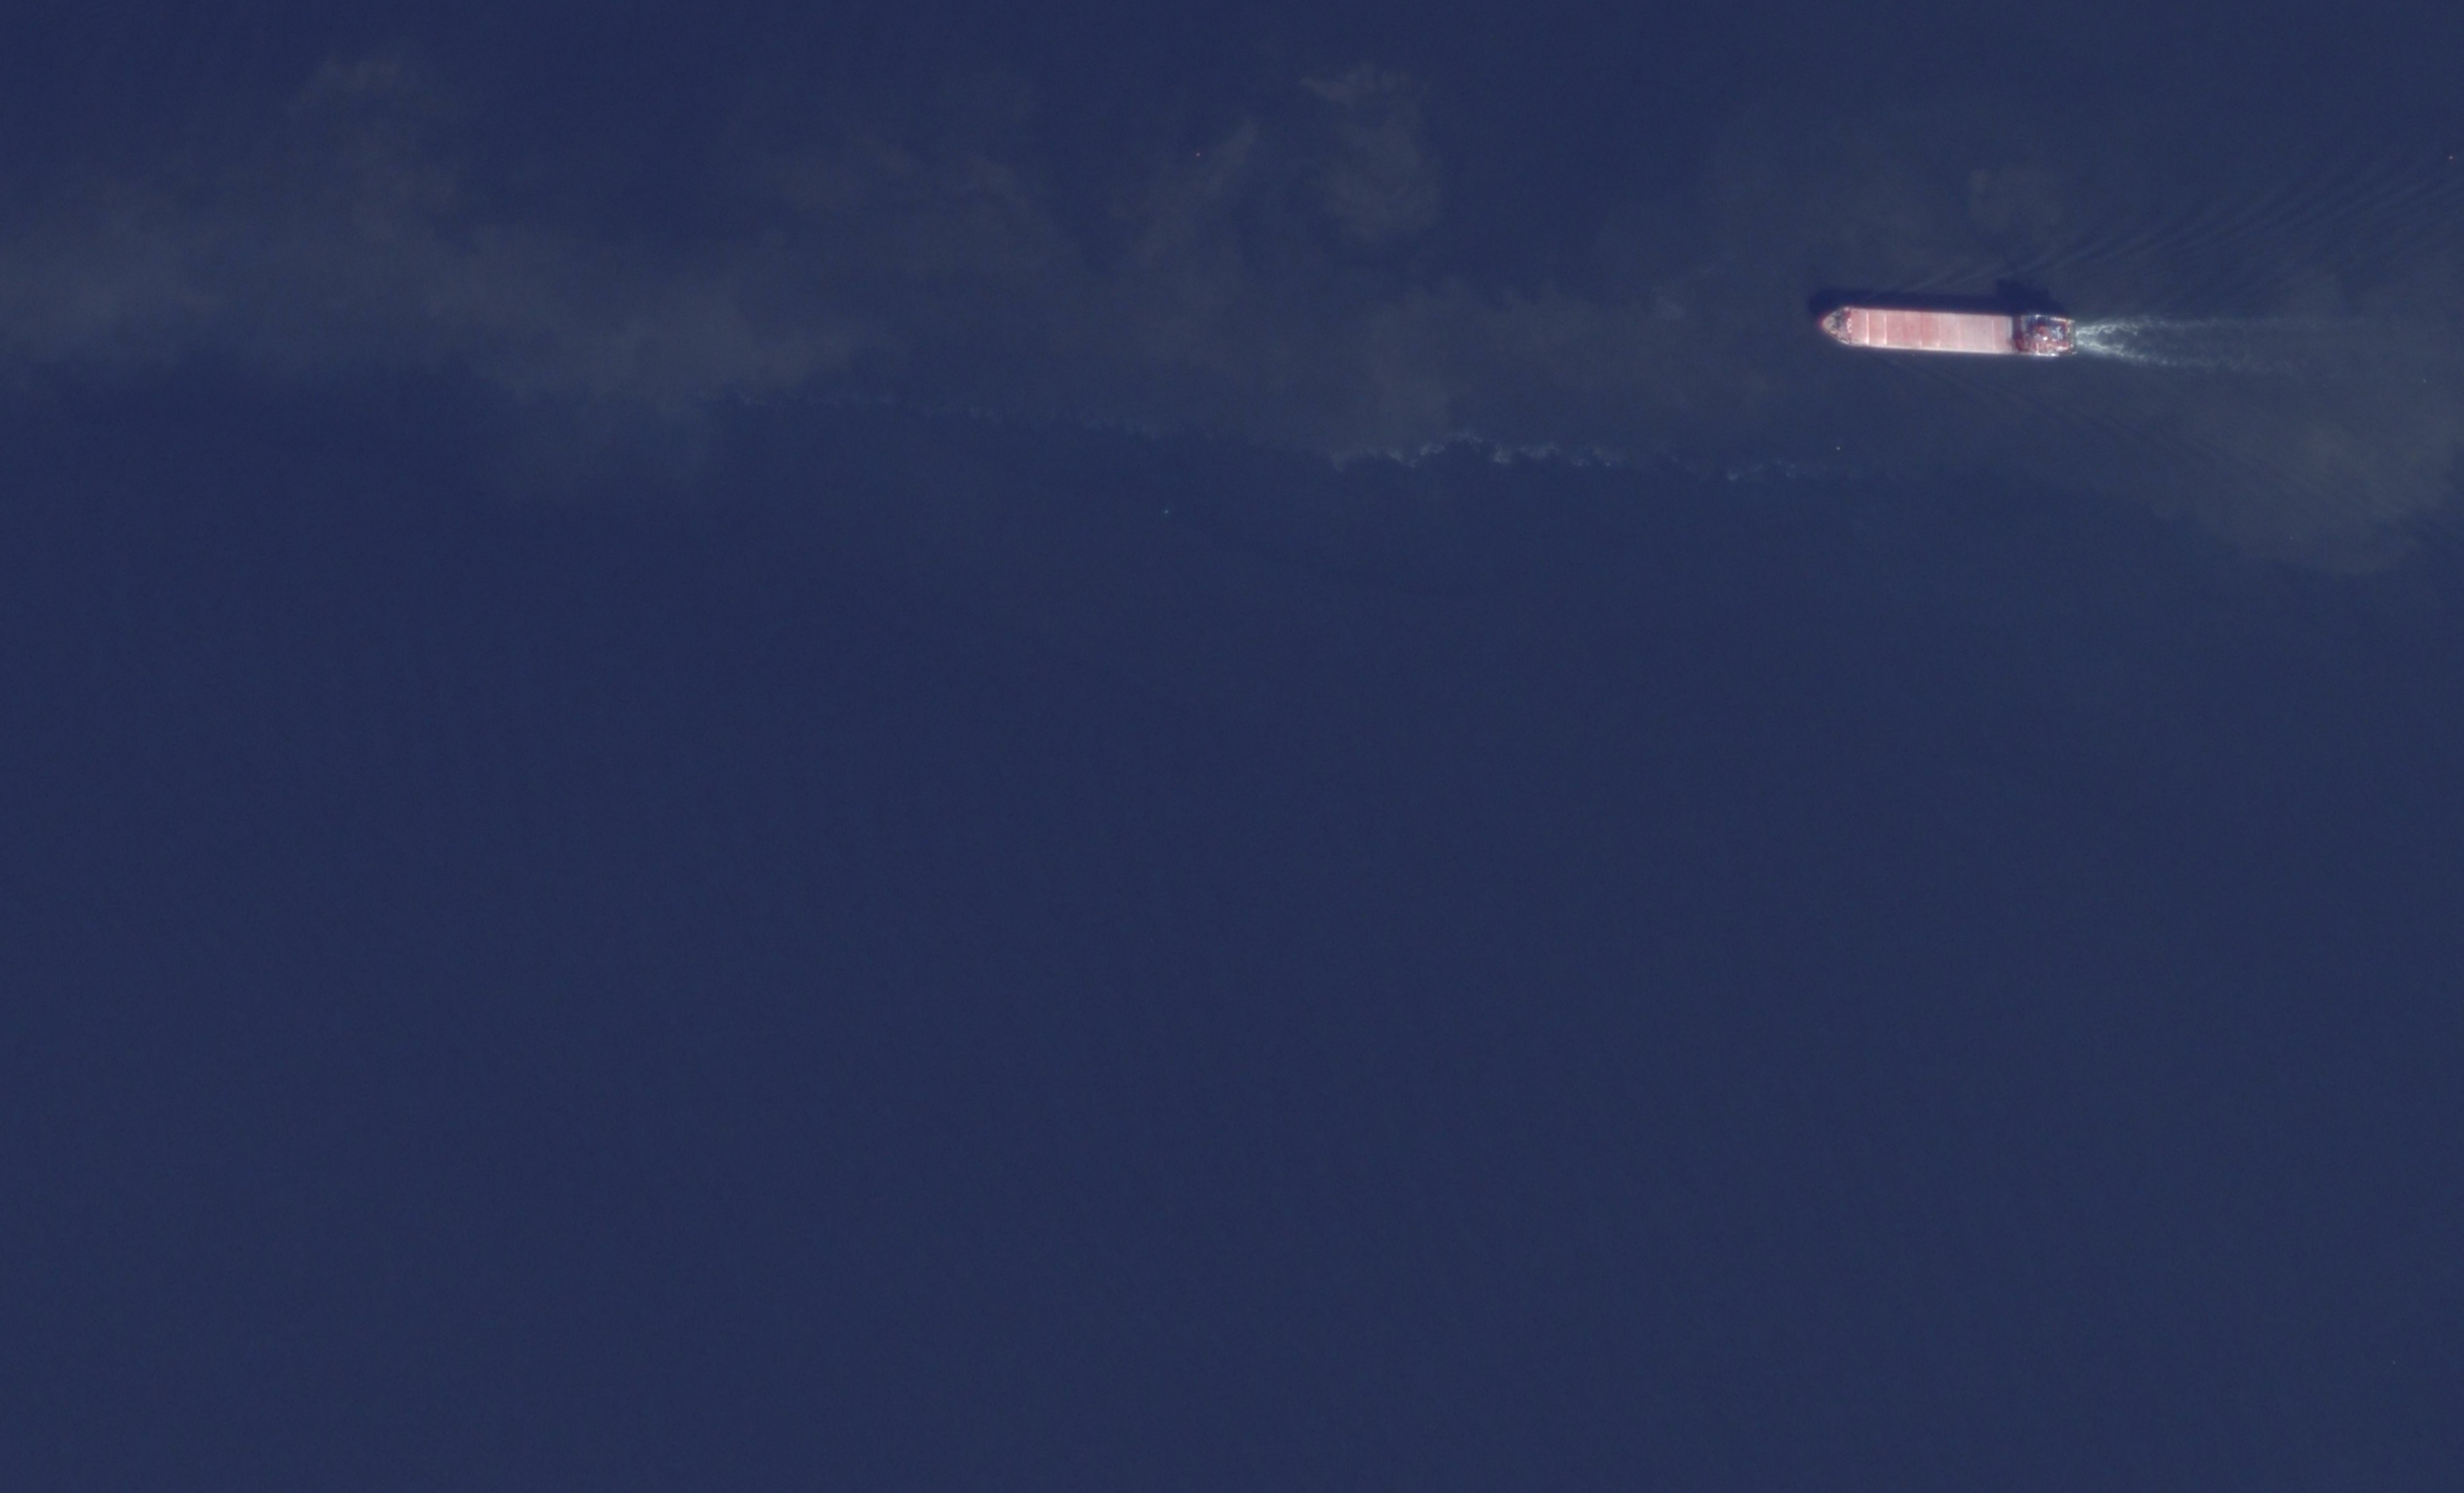boat: (1816, 301, 2080, 364)
